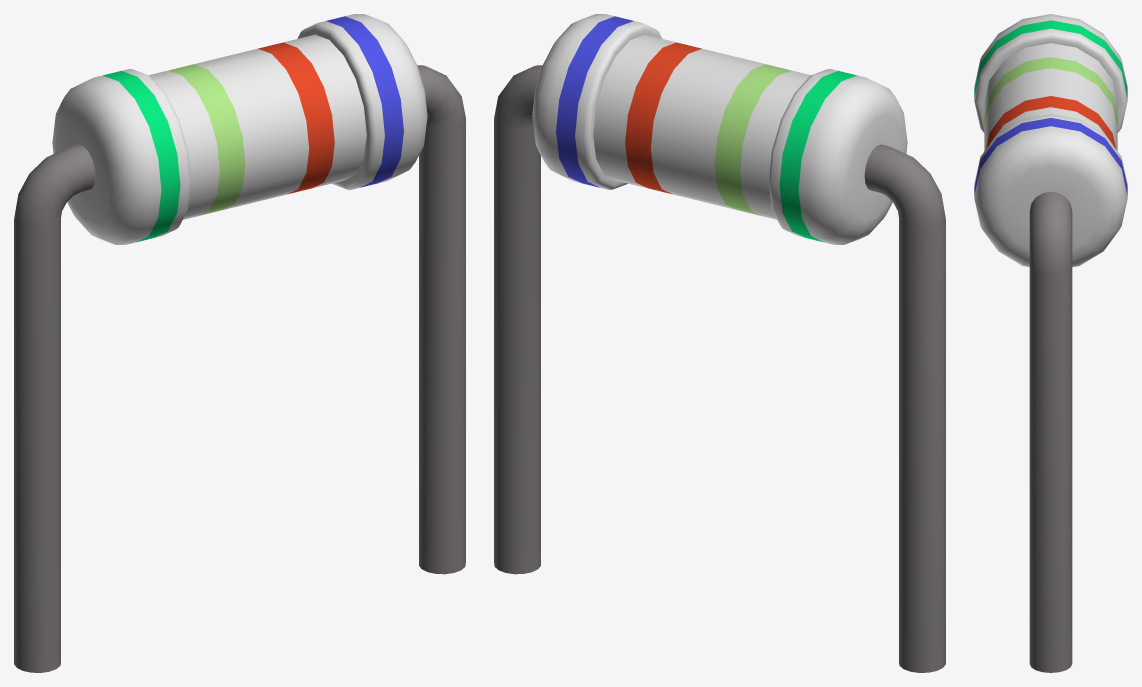
The model's file is resistor.fbx.
3 renders of one model, left to right at view 1: azimuth 30°, elevation 25°; view 2: azimuth 150°, elevation 25°; view 3: azimuth 270°, elevation 25°, orthographic. The views are drawn at different scales.
Visible parts, largest first — view 1: Cylinder.011; view 2: Cylinder.011; view 3: Cylinder.011.
Boxes of the visible parts, x1=… form: Cylinder.011: x1=14, y1=14, x2=465, y2=672; Cylinder.011: x1=494, y1=14, x2=945, y2=672; Cylinder.011: x1=974, y1=14, x2=1127, y2=672.
Size of the model in its own units: 997 by 1201 by 331.
